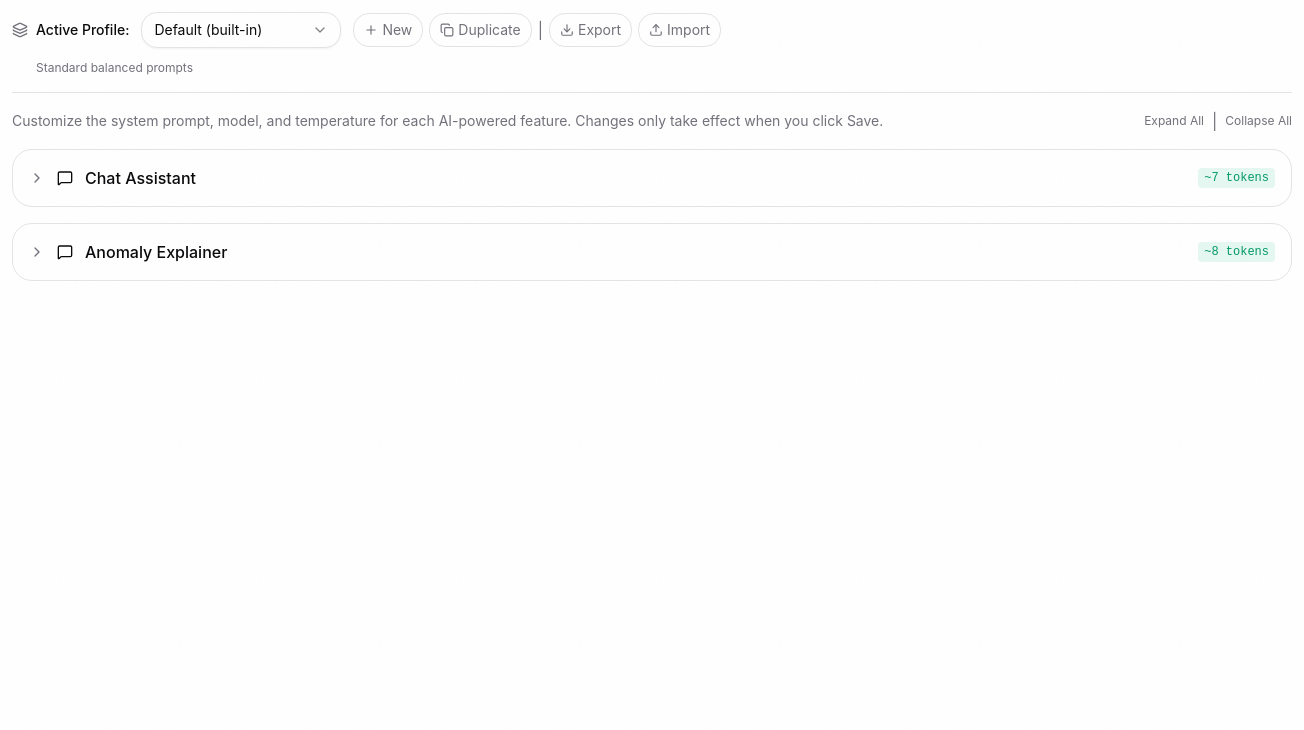
Test case: AiPromptsTab › expand all opens all features
Step 1. Click the button "Expand All" → [1174, 121], box left=1144, top=113, right=1204, bottom=129
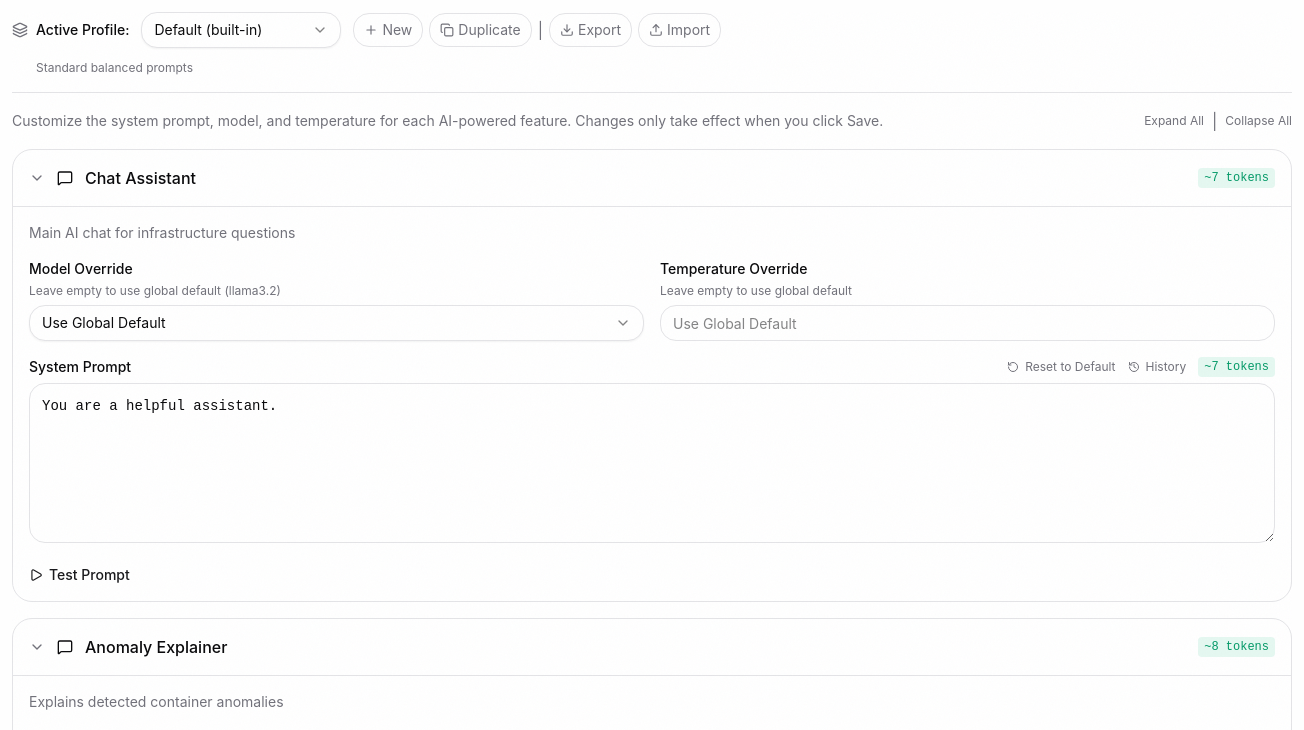
expect the text "Main AI chat for infrastructure questions" is shown: met, box left=29, top=224, right=295, bottom=241
expect the text "Explains detected container anomalies" is shown: met, box left=29, top=693, right=284, bottom=710
